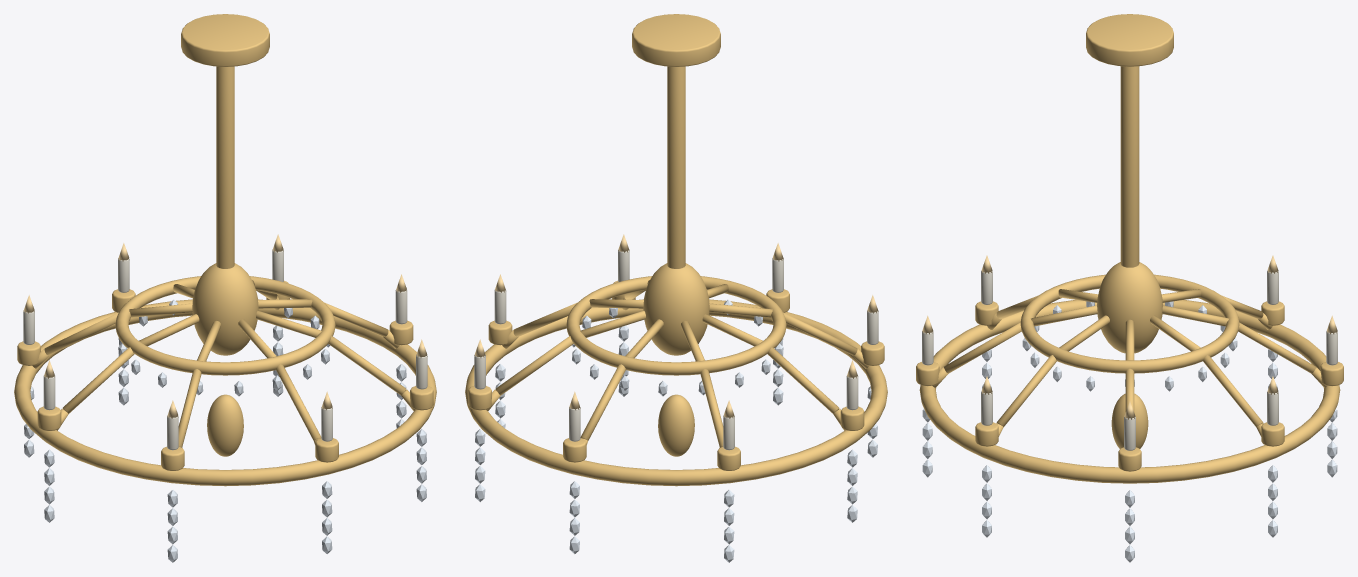
Rendered from chandelier.fbx.
3 views of the same model, side by side, from view 1: azimuth 30°, elevation 25°; view 2: azimuth 150°, elevation 25°; view 3: azimuth 270°, elevation 25° (orthographic).
Parts seen in each view (by area): view 1: ring, ring2, knob, canopy, stem, finial, arm2.007, arm2.004, arm2.006, arm2.003, arm2.005, arm1.007 (+4 smaller); view 2: ring, ring2, knob, canopy, stem, finial, arm2.001, arm2.004, arm2.002, arm2.005, arm2.003, arm1.001 (+4 smaller); view 3: ring, ring2, knob, stem, canopy, finial, arm2.002, arm2.006, arm2.001, arm2.007, arm1.002, arm1.006.
Part boxes in pixels (box(x1,y1,x2,y2)): ring: box(14, 299, 436, 486); ring2: box(115, 276, 335, 375); knob: box(192, 263, 258, 355); canopy: box(181, 14, 269, 66); stem: box(216, 66, 234, 268); finial: box(207, 394, 243, 456); arm2.007: box(328, 336, 406, 395); arm2.004: box(62, 347, 134, 413); arm2.006: box(276, 364, 321, 440); arm2.003: box(44, 312, 118, 355); arm2.005: box(178, 369, 201, 447); arm1.007: box(256, 310, 321, 337); ring: box(465, 299, 887, 486); ring2: box(566, 276, 786, 375); knob: box(643, 263, 709, 355); canopy: box(632, 14, 720, 66); stem: box(667, 66, 685, 268); finial: box(658, 394, 694, 456); arm2.001: box(495, 336, 573, 395); arm2.004: box(767, 347, 839, 413); arm2.002: box(580, 364, 625, 440); arm2.005: box(783, 312, 857, 355); arm2.003: box(700, 369, 723, 447); arm1.001: box(580, 310, 645, 337); ring: box(919, 299, 1340, 483); ring2: box(1020, 274, 1239, 373); knob: box(1097, 262, 1162, 353); stem: box(1120, 66, 1139, 267); canopy: box(1086, 14, 1173, 66); finial: box(1111, 393, 1148, 448); arm2.002: box(1238, 322, 1315, 373); arm2.006: box(944, 322, 1021, 373); arm2.001: box(1203, 355, 1263, 427); arm2.007: box(996, 355, 1056, 427); arm1.002: box(1162, 305, 1228, 326); arm1.006: box(1031, 305, 1097, 326).
Size of what is drawn, in the model's own units: 116 by 134 by 116.
